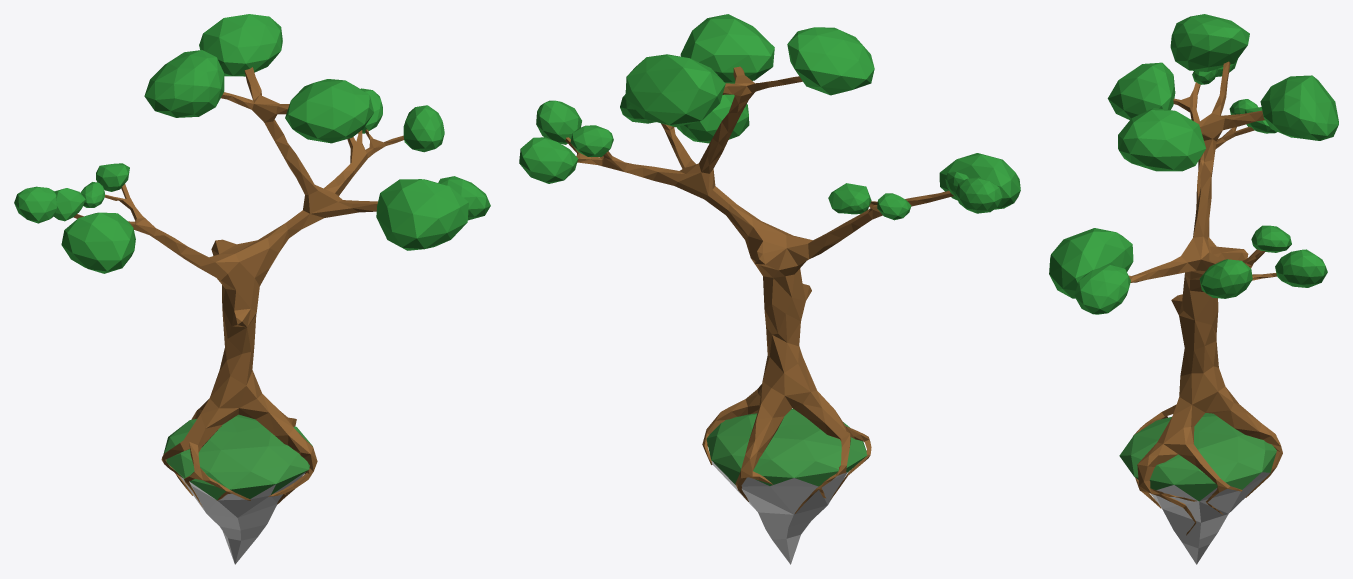
The model's file is tree.fbx.
The picture shows the model from 3 angles, left to right: view 1: azimuth 30°, elevation 25°; view 2: azimuth 150°, elevation 25°; view 3: azimuth 270°, elevation 25°; orthographic projection. The views are drawn at different scales.
Parts seen in each view (by area): view 1: Leaves, Tree, Island, Stones; view 2: Leaves, Tree, Island, Stones; view 3: Leaves, Tree, Island, Stones.
Part boxes in pixels (bbox=[...]): Leaves: bbox=[14, 14, 490, 273]; Tree: bbox=[73, 67, 403, 506]; Island: bbox=[163, 414, 312, 499]; Stones: bbox=[179, 472, 305, 564]; Leaves: bbox=[519, 14, 1020, 220]; Tree: bbox=[565, 66, 953, 513]; Island: bbox=[706, 408, 867, 486]; Stones: bbox=[711, 461, 847, 564]; Leaves: bbox=[1049, 14, 1338, 314]; Tree: bbox=[1129, 61, 1282, 535]; Island: bbox=[1119, 413, 1276, 501]; Stones: bbox=[1150, 472, 1269, 564].
Size of the model in its own units: 9.91 by 11.31 by 5.62.
